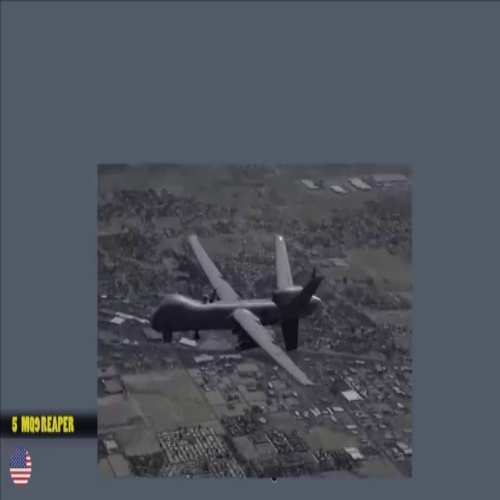uav848: (148, 228, 331, 392)
